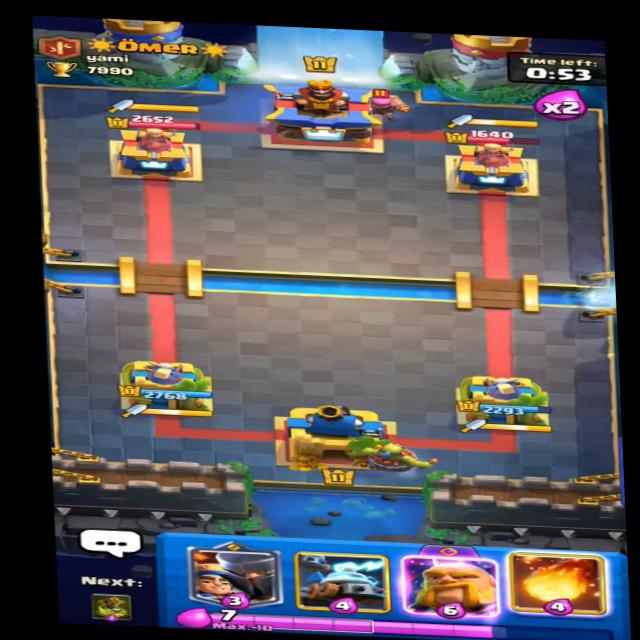Firecracker: (356, 87, 414, 124)
